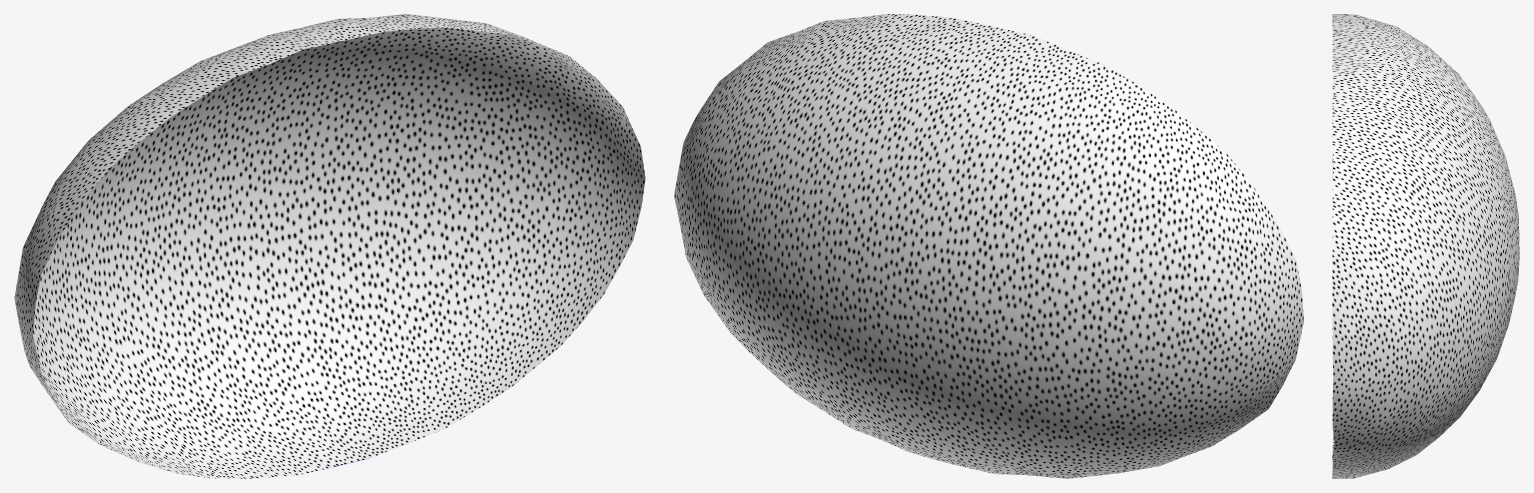
File: textured_bubble.obj
3 views of the same model, side by side, from view 1: azimuth 30°, elevation 25°; view 2: azimuth 150°, elevation 25°; view 3: azimuth 270°, elevation 25° (orthographic). The views are drawn at different scales.
Bounding box in the file's own units: 0.109 × 0.0724 × 0.0323.
Materials: 1 (1 with a texture image).
